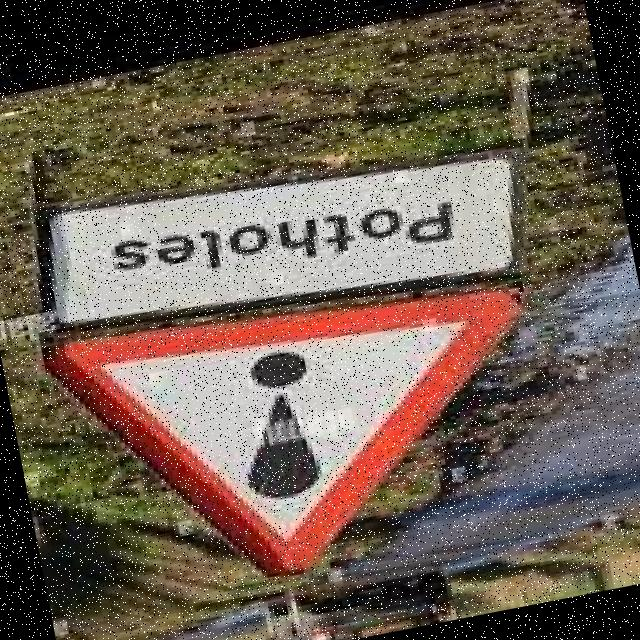warning: (19, 248, 567, 630)
